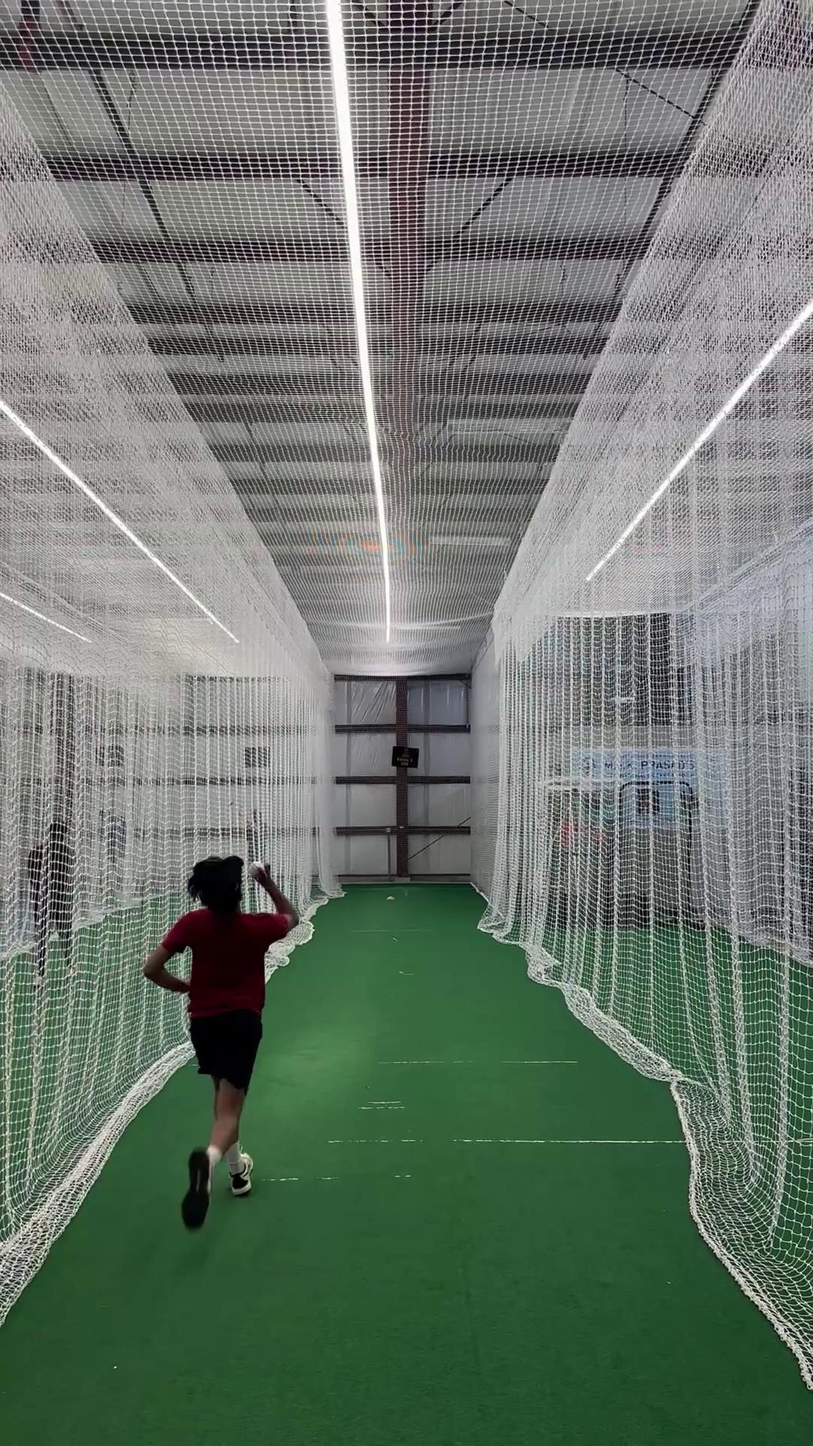ball: (244, 856, 268, 883)
